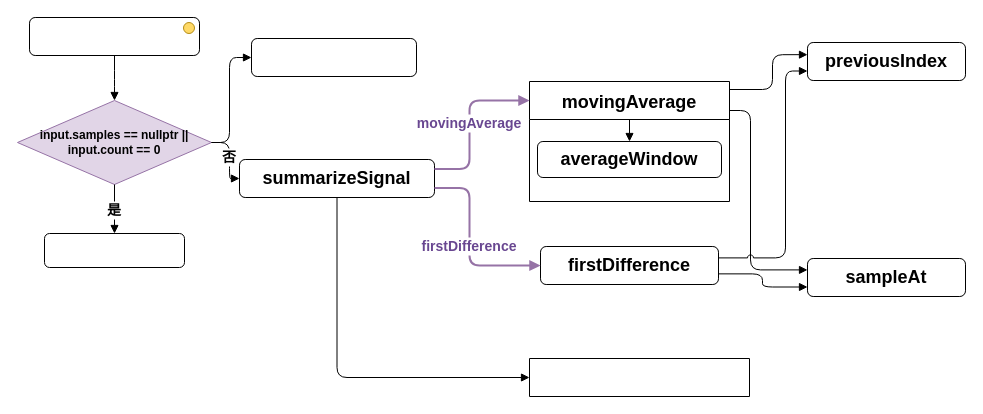
Some shapes in this 983 by 414 pixel diagram are drawn without their labels. The shapes that lost their labels are listed below. From the top down, each one's box as (x1, y1, x2, y2) in pixels, then its label:
(28, 16, 200, 56): analyzeSignal
(250, 38, 416, 76): selectFilter
(44, 232, 184, 268): return {};
(528, 358, 750, 396): updateStats
